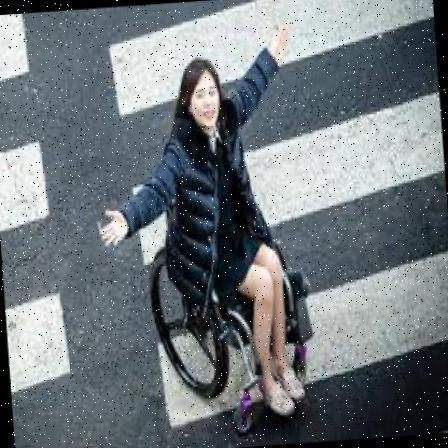wheel: (86, 22, 318, 440)
